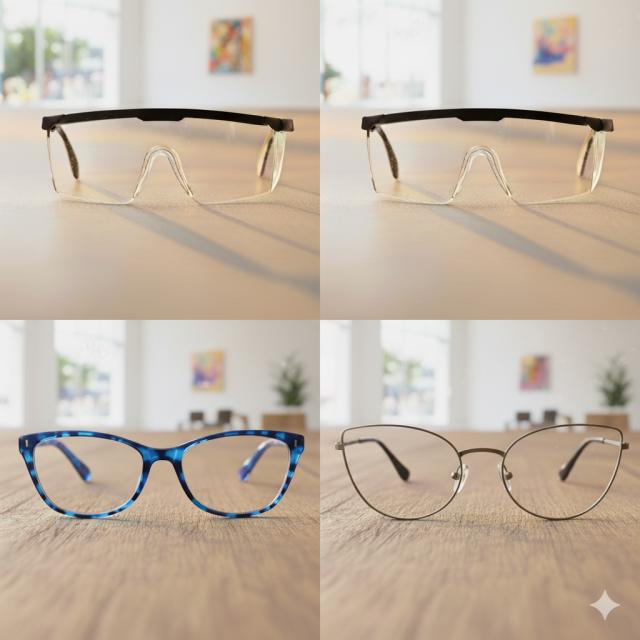oculos-epi: (352, 106, 626, 215), (33, 106, 301, 216)
sem_oculos: (336, 424, 628, 520), (19, 432, 303, 518)
